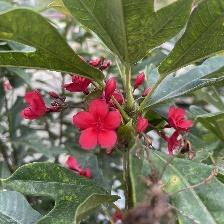jatropha: (73, 100, 125, 155)
